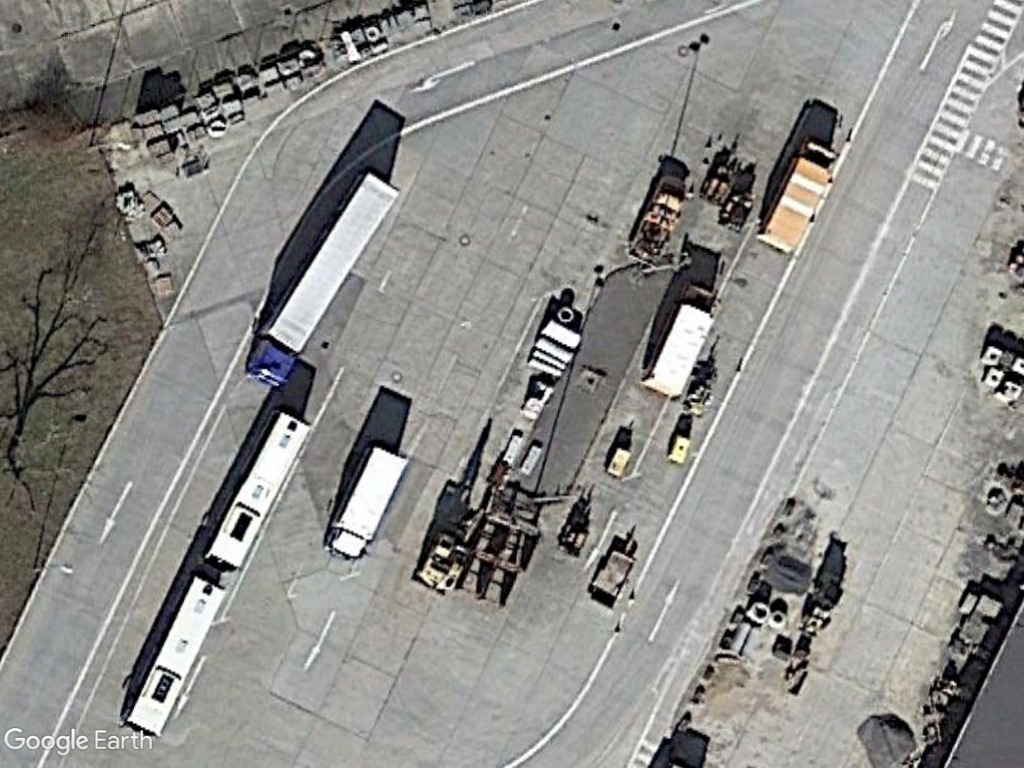bus: (202, 408, 323, 577), (120, 572, 236, 742)
longvehicle: (244, 164, 413, 389)
truck: (633, 280, 728, 402), (322, 443, 416, 564), (753, 138, 844, 257)
